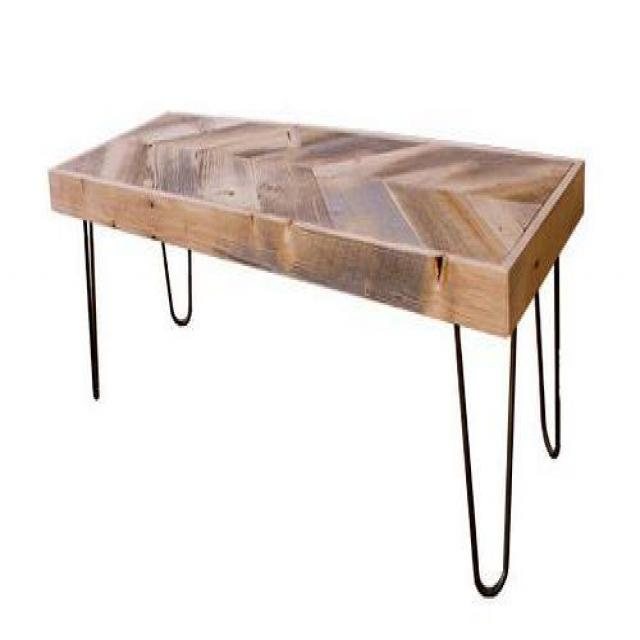Table: (27, 75, 610, 629)
